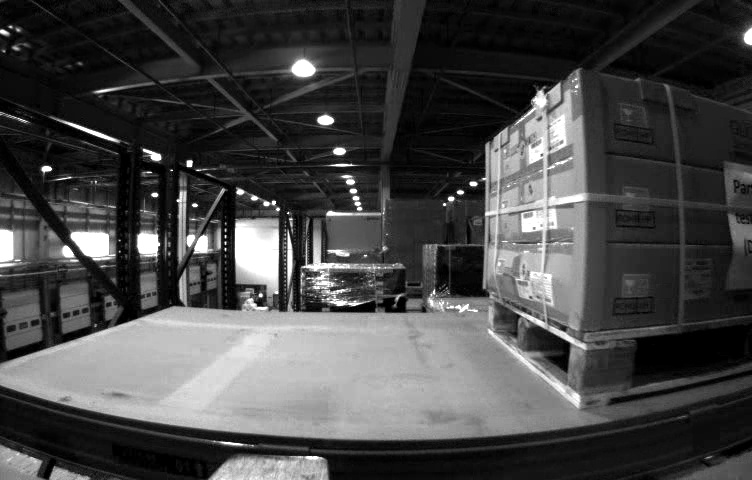True Barcode: (676, 255, 715, 299)
